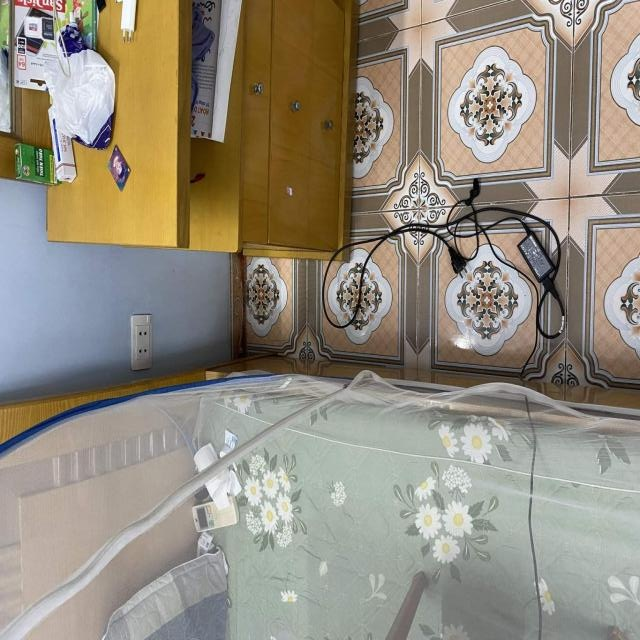outlet: (131, 314, 153, 371)
